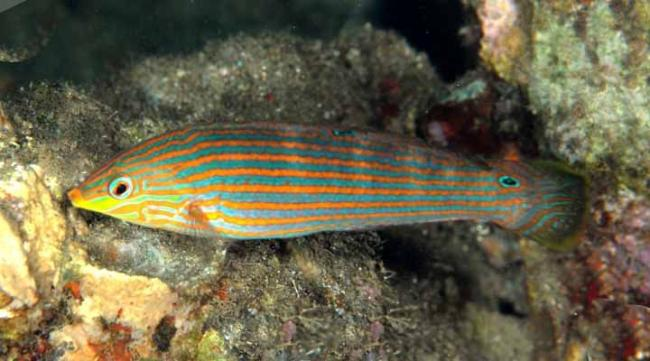fish: (67, 121, 586, 242)
